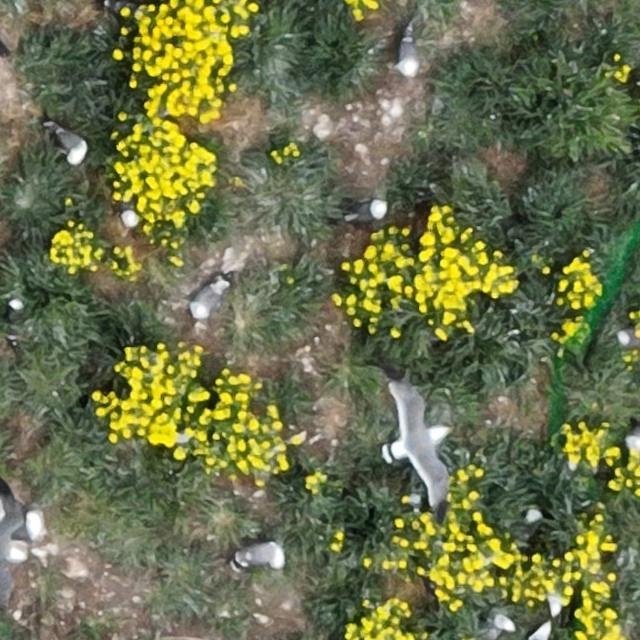F: (388, 403, 450, 506)
umineko: (191, 282, 224, 317), (54, 126, 86, 161), (238, 542, 282, 566), (348, 200, 384, 220), (398, 36, 417, 72), (7, 298, 21, 335), (617, 328, 639, 348), (122, 207, 138, 230), (627, 418, 639, 446)
